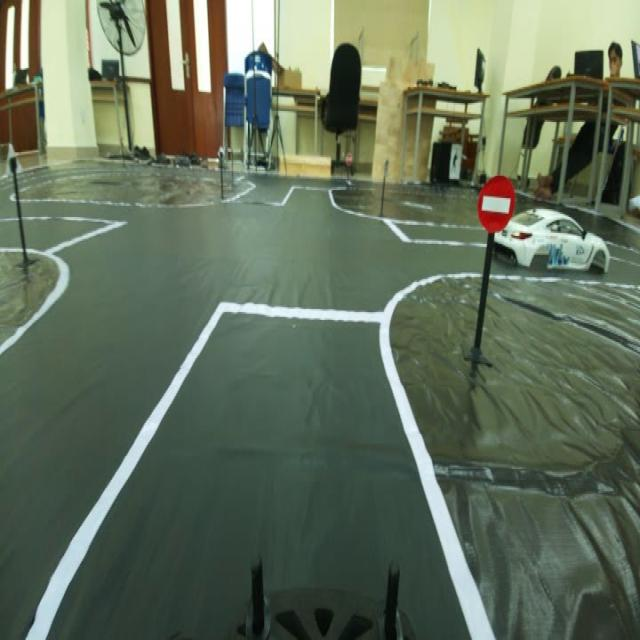no_entry: (476, 147, 514, 244)
